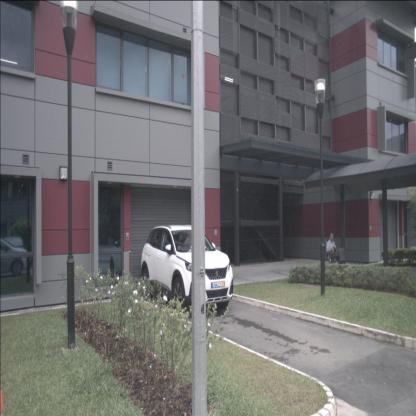human-pedestrian-adult: (326, 231, 346, 267)
vehicle-car: (140, 223, 234, 314), (82, 232, 129, 282), (0, 236, 30, 277)
